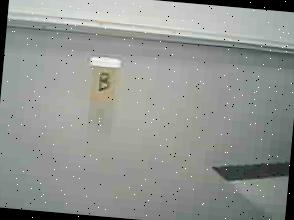Bottle B: (78, 51, 132, 112)
